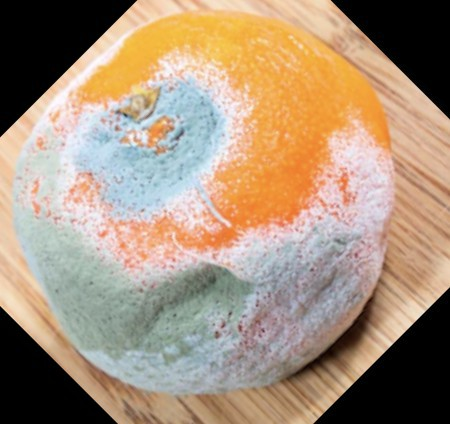rotten_orange: (12, 12, 396, 396)
